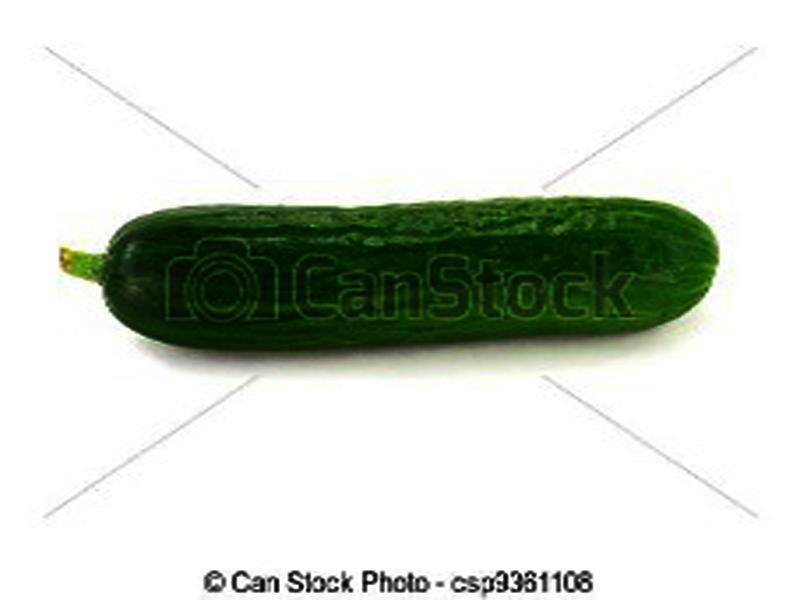Cucumber: (56, 198, 722, 352)
